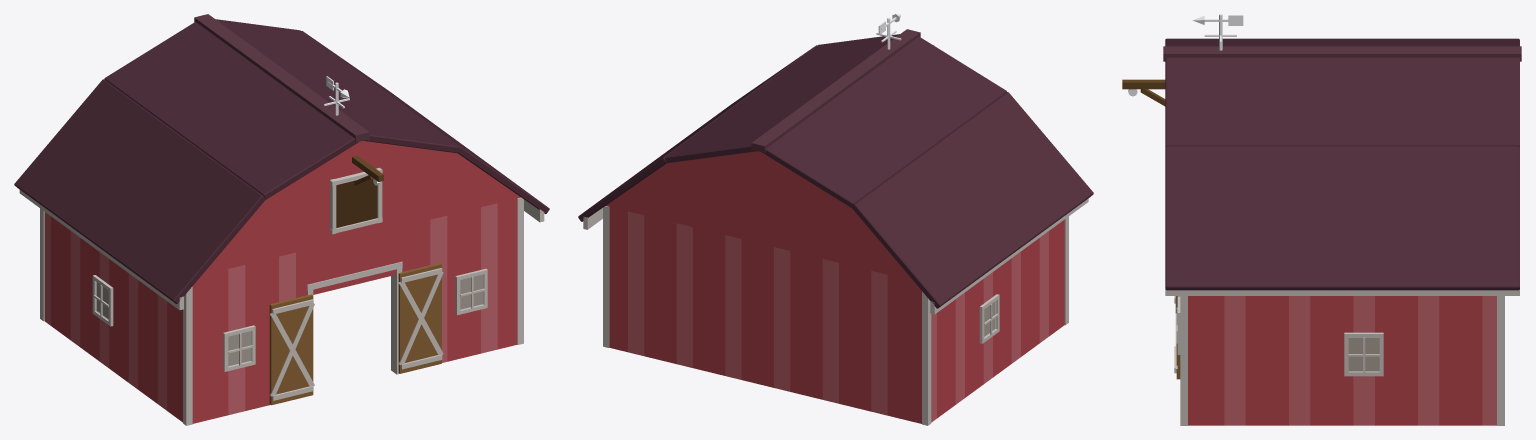
The model's file is barn.glb.
The picture shows the model from 3 angles, left to right: view 1: azimuth 30°, elevation 25°; view 2: azimuth 150°, elevation 25°; view 3: azimuth 270°, elevation 25°; orthographic projection. The views are drawn at different scales.
Parts seen in each view (by area): view 1: Barn; view 2: Barn; view 3: Barn.
Part boxes in pixels (x1,y1,x2,y2): Barn: (14,14,549,425); Barn: (578,14,1093,425); Barn: (1122,14,1521,425).
Bounding box in the file's own units: 13.45 × 9.85 × 11.15.
